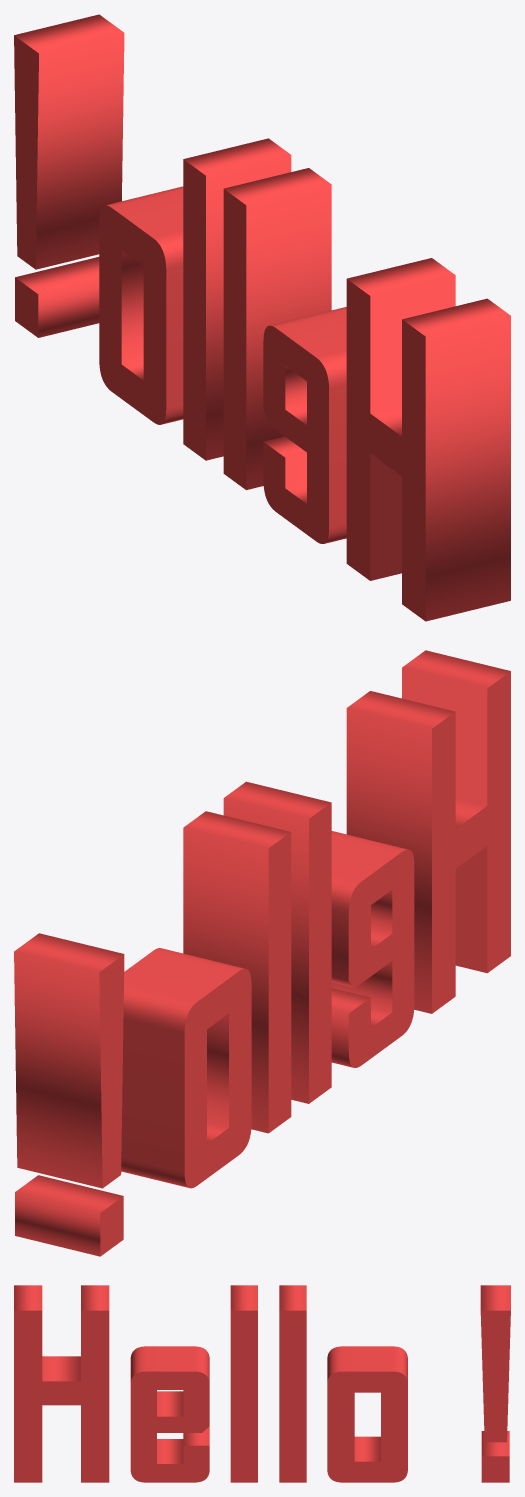
Rendered from hello.glb.
3 views of the same model, one above another, from view 1: azimuth 30°, elevation 25°; view 2: azimuth 150°, elevation 25°; view 3: azimuth 270°, elevation 25° (orthographic). The views are drawn at different scales.
Parts seen in each view (by area): view 1: 文本; view 2: 文本; view 3: 文本.
Boxes of the visible parts, box(x1,y1,x2,y2) form: 文本: box(14, 14, 510, 621); 文本: box(14, 650, 510, 1256); 文本: box(14, 1285, 510, 1482).
Bounding box in the file's own units: 0.2 × 0.6383 × 1.67.
